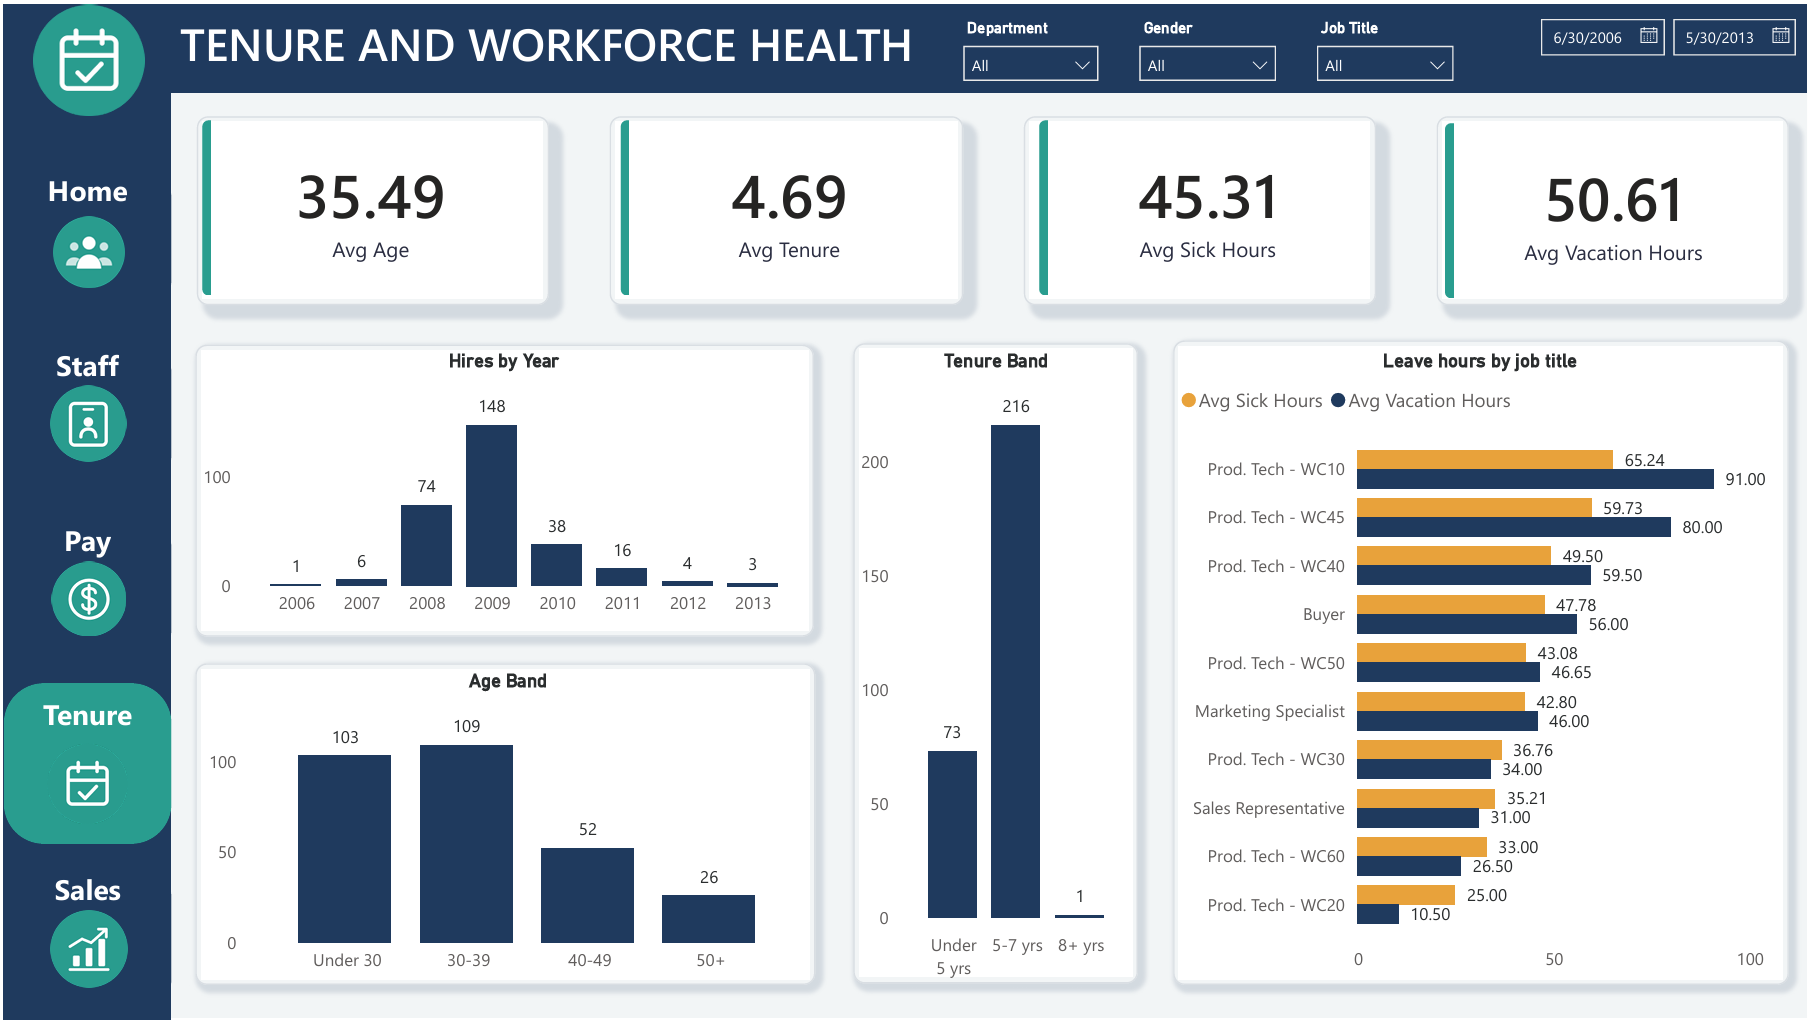

The dashboard page shown, as its layout file describes it:
{"tool":"powerbi","page":{"name":"Tenure ","canvas":[1280,720],"ordinal":3},"visuals":[{"type":"shape","box":[0,0,1279.5,719.2],"z":0},{"type":"shape","box":[0,0,119.4,720.3],"z":1000},{"type":"shape","box":[0,0,1280,62.7],"z":2000},{"type":"textbox","box":[119.6,0,1159.9,63.6],"z":3000},{"type":"shape","box":[430.4,78.8,250.5,134.3],"z":4000},{"type":"shape","box":[723.9,78.8,250.5,134.3],"z":5000},{"type":"shape","box":[1017.5,78.8,249.2,134.3],"z":6000},{"type":"shape","box":[136.9,78.8,250.5,134.3],"z":7000},{"type":"shape","box":[136.3,240.8,439.1,207.4],"z":8000},{"type":"slicer","fields":{"Values":["HR Master.HireDate"]},"box":[1078.1,0,201.4,43.9],"z":9000},{"type":"cardVisual","fields":{"Data":["HR Master.Avg Age"]},"box":[136.3,77.2,249.8,134.8],"z":10000},{"type":"cardVisual","fields":{"Data":["HR Master.Avg Tenure"]},"box":[432.8,77.5,249.5,134.2],"z":11000},{"type":"cardVisual","fields":{"Data":["DATE.Avg Sick Hours"]},"box":[729.8,77.2,249.8,134.8],"z":12000},{"type":"cardVisual","fields":{"Data":["DATE.Avg Vacation Hours"]},"box":[1017.5,78.7,249.8,134.8],"z":13000},{"type":"shape","box":[829.8,237.7,437.6,457.3],"z":14000},{"type":"clusteredColumnChart","title":"Hires by  Year","fields":{"Category":["HR Master.Hire Year"],"Y":["HR Master.Headcount"]},"box":[136.3,245.3,437.6,196.8],"z":15000},{"type":"clusteredBarChart","title":"Leave hours by job title","fields":{"Y":["DATE.Avg Sick Hours","DATE.Avg Vacation Hours"],"Category":["HR Master.Job Title Short"]},"box":[829.8,245.3,436.1,449.7],"z":16000},{"type":"shape","box":[602.8,240,202.2,453.5],"z":17000},{"type":"shape","box":[136.1,466.8,440.3,228.7],"z":18000},{"type":"clusteredColumnChart","title":"Tenure Band ","fields":{"Category":["HR Master.Tenure Band"],"Y":["HR Master.Headcount"]},"box":[602.7,245.3,202.9,452.7],"z":19000},{"type":"clusteredColumnChart","title":"Age Band","fields":{"Category":["HR Master.Age Band"],"Y":["HR Master.Headcount"]},"box":[139.8,472.4,436.5,223],"z":20000},{"type":"slicer","title":"Department ","fields":{"Values":["HR Master.Department Name"]},"box":[670.8,4.5,116.6,57.5],"z":21000},{"type":"slicer","title":"Department ","fields":{"Values":["HR Master.Gender"]},"box":[796.5,4.5,116.6,57.5],"z":22000},{"type":"slicer","title":"Department ","fields":{"Values":["HR Master.Job Title Short"]},"box":[922.2,4.5,116.6,57.5],"z":23000},{"type":"pageNavigator","box":[0,109,119.6,610.2],"z":24000},{"type":"image","box":[0,269.5,119.6,54.5],"z":25000},{"type":"image","box":[0,395.2,119.6,53],"z":26000},{"type":"image","box":[0,0,119.6,78.7],"z":27000},{"type":"image","box":[10.6,523.9,96.9,57.5],"z":28000},{"type":"image","box":[12.1,149.9,96.9,51.5],"z":29000},{"type":"image","box":[0,642,119.6,54.5],"z":30000}]}

Visuals, with their boxes on the page's 1280x720 design canvas (x1, y1, x2, y2). These are canvas units, not pixel positions in the 1819x1024 screenshot, which may show the page scaled, cropped or inside an application window:
shape: 0,0,1280,719
shape: 0,0,119,720
shape: 0,0,1280,63
textbox: 120,0,1280,64
shape: 430,79,681,213
shape: 724,79,974,213
shape: 1018,79,1267,213
shape: 137,79,387,213
shape: 136,241,575,448
slicer - HR Master.HireDate: 1078,0,1280,44
cardVisual - HR Master.Avg Age: 136,77,386,212
cardVisual - HR Master.Avg Tenure: 433,78,682,212
cardVisual - DATE.Avg Sick Hours: 730,77,980,212
cardVisual - DATE.Avg Vacation Hours: 1018,79,1267,214
shape: 830,238,1267,695
"Hires by  Year" clusteredColumnChart: 136,245,574,442
"Leave hours by job title" clusteredBarChart: 830,245,1266,695
shape: 603,240,805,694
shape: 136,467,576,696
"Tenure Band " clusteredColumnChart: 603,245,806,698
"Age Band" clusteredColumnChart: 140,472,576,695
"Department " slicer: 671,4,787,62
"Department " slicer: 796,4,913,62
"Department " slicer: 922,4,1039,62
pageNavigator: 0,109,120,719
image: 0,270,120,324
image: 0,395,120,448
image: 0,0,120,79
image: 11,524,108,581
image: 12,150,109,201
image: 0,642,120,696
